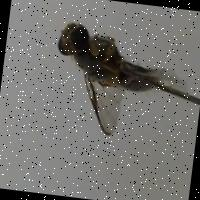Oriental-fruit-fly: (38, 14, 198, 152)
